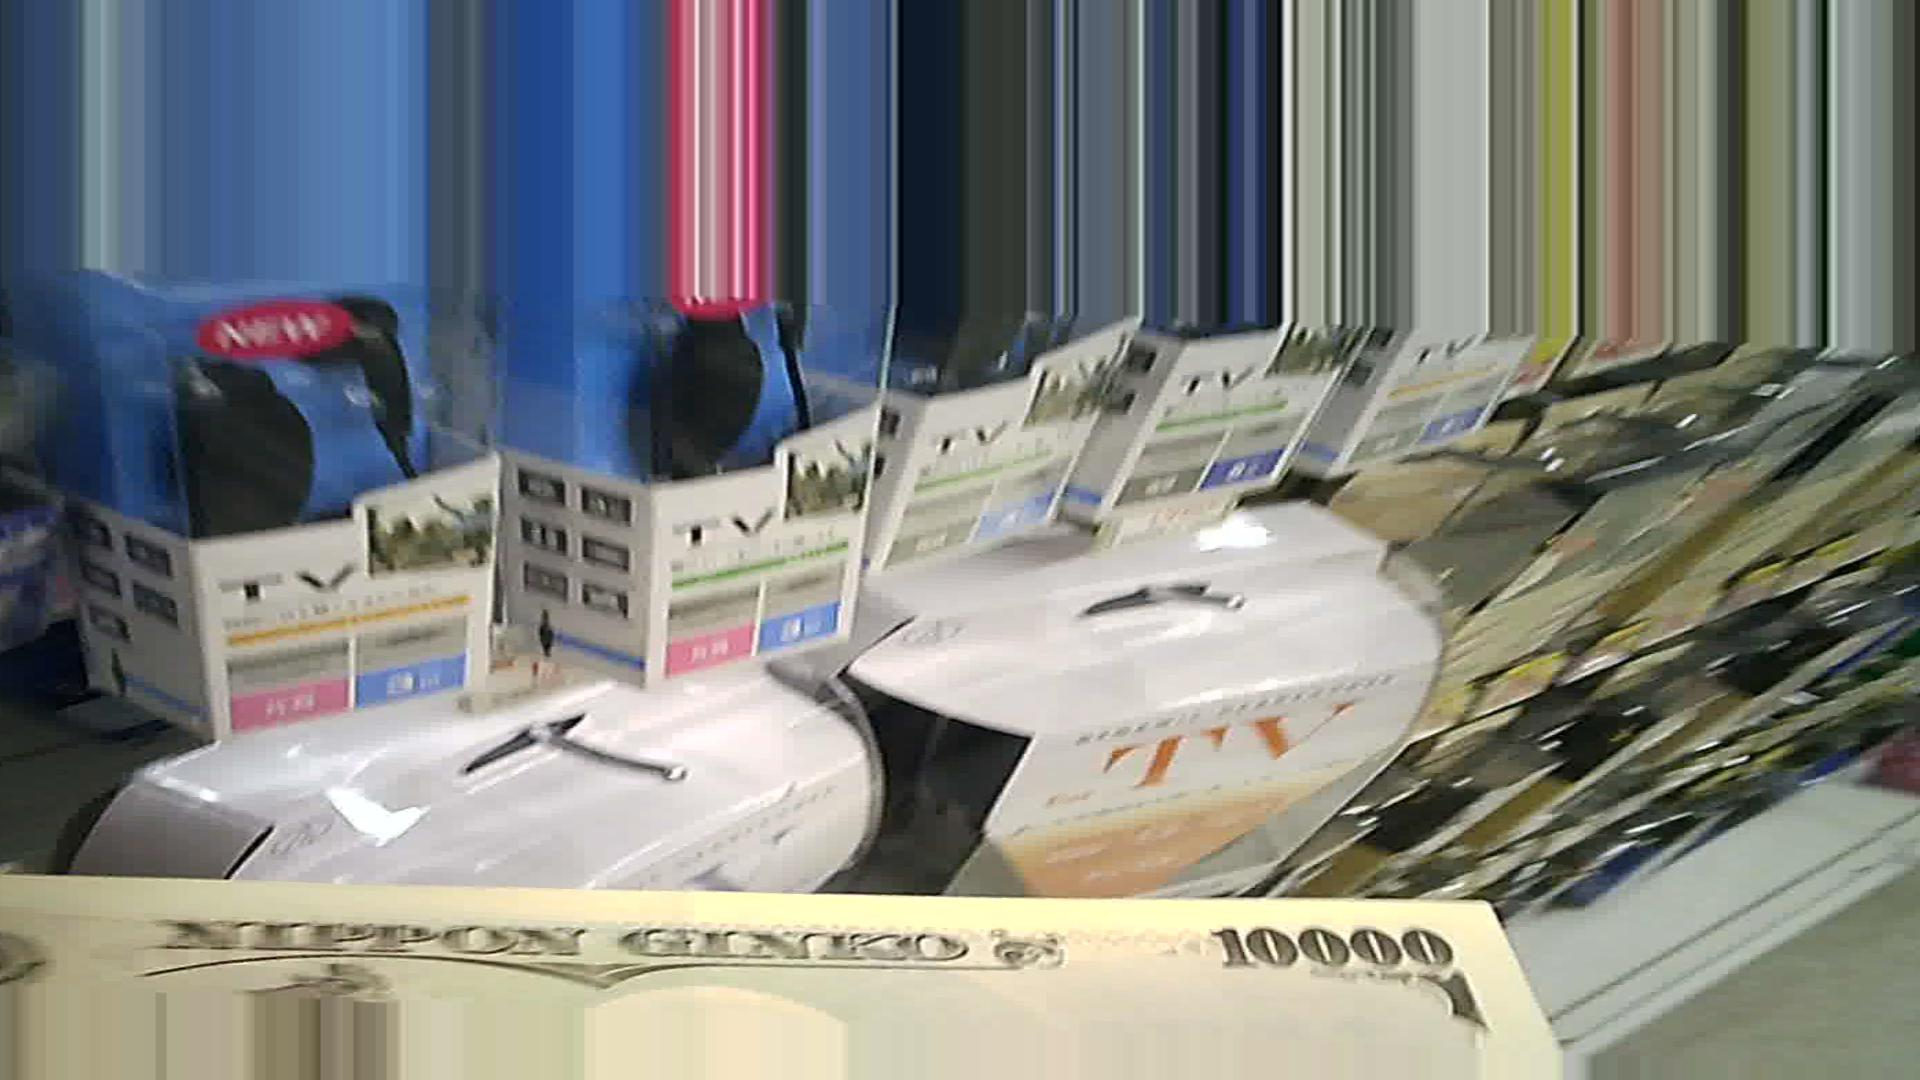10,000 Yen: (160, 820, 1673, 1043)
